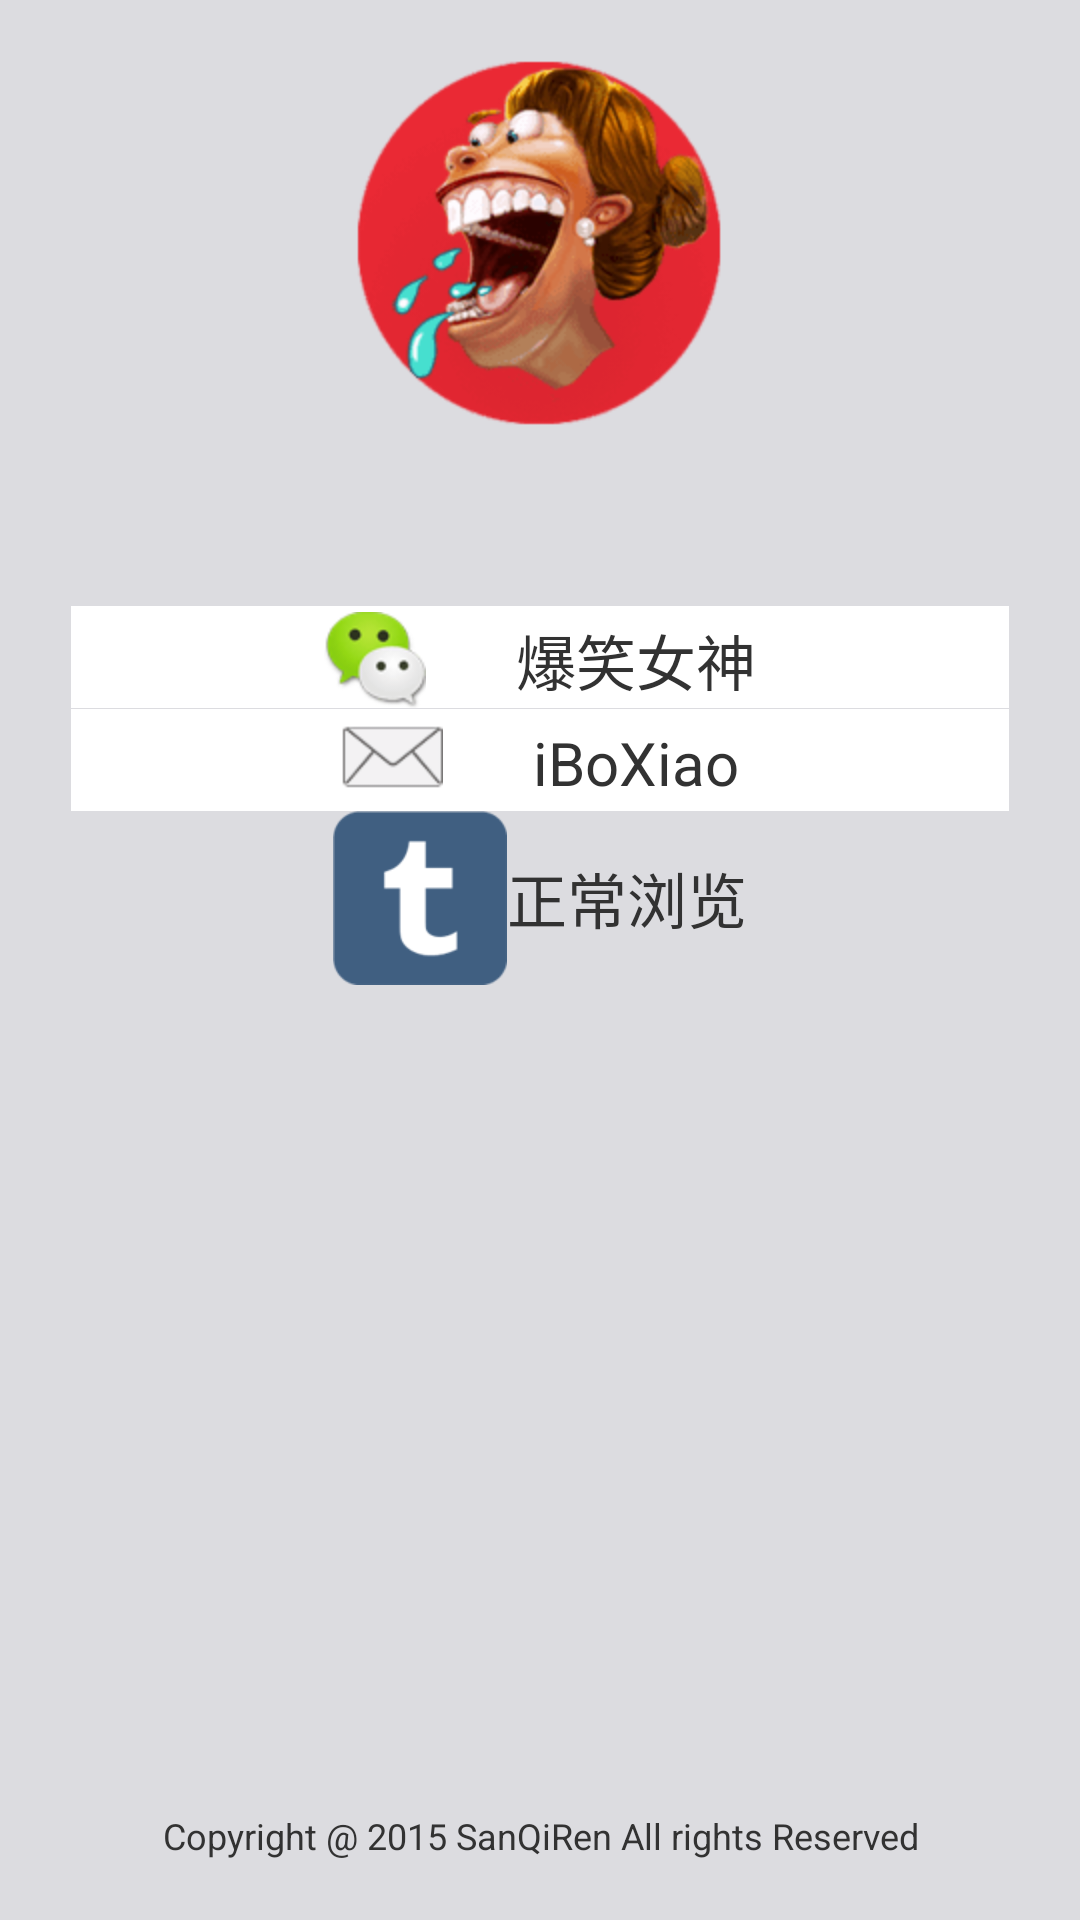

Point at icon controls on the screen. Image size 1080x1920, points as point (x, y).
about us email: point (392, 757)
